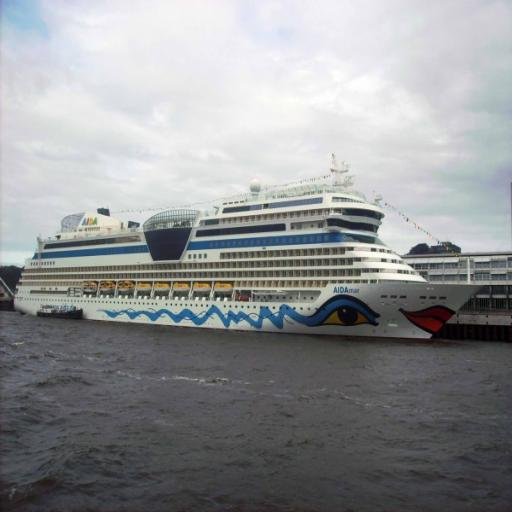cruises: (14, 168, 485, 347)
